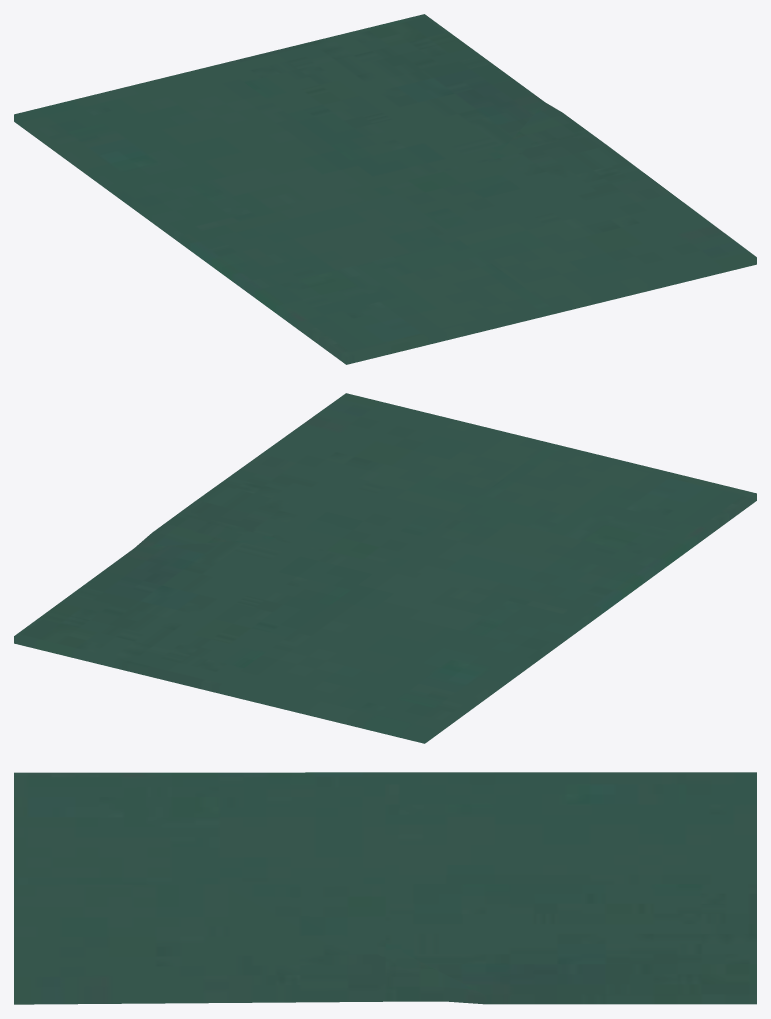
The picture shows the model from 3 angles, top to bottom: view 1: azimuth 30°, elevation 25°; view 2: azimuth 150°, elevation 25°; view 3: azimuth 270°, elevation 25°; orthographic projection. The views are drawn at different scales.
Parts seen in each view (by area): view 1: 30436272704370637400_0; view 2: 30436272704370637400_0; view 3: 30436272704370637400_0.
Boxes of the visible parts, box(x1,y1,x2,y2) form: 30436272704370637400_0: box(14, 14, 756, 364); 30436272704370637400_0: box(14, 393, 756, 743); 30436272704370637400_0: box(14, 772, 756, 1004).
Size of the model in its own units: 27.32 by 0.6302 by 38.26.
1 material, 1 textured.
